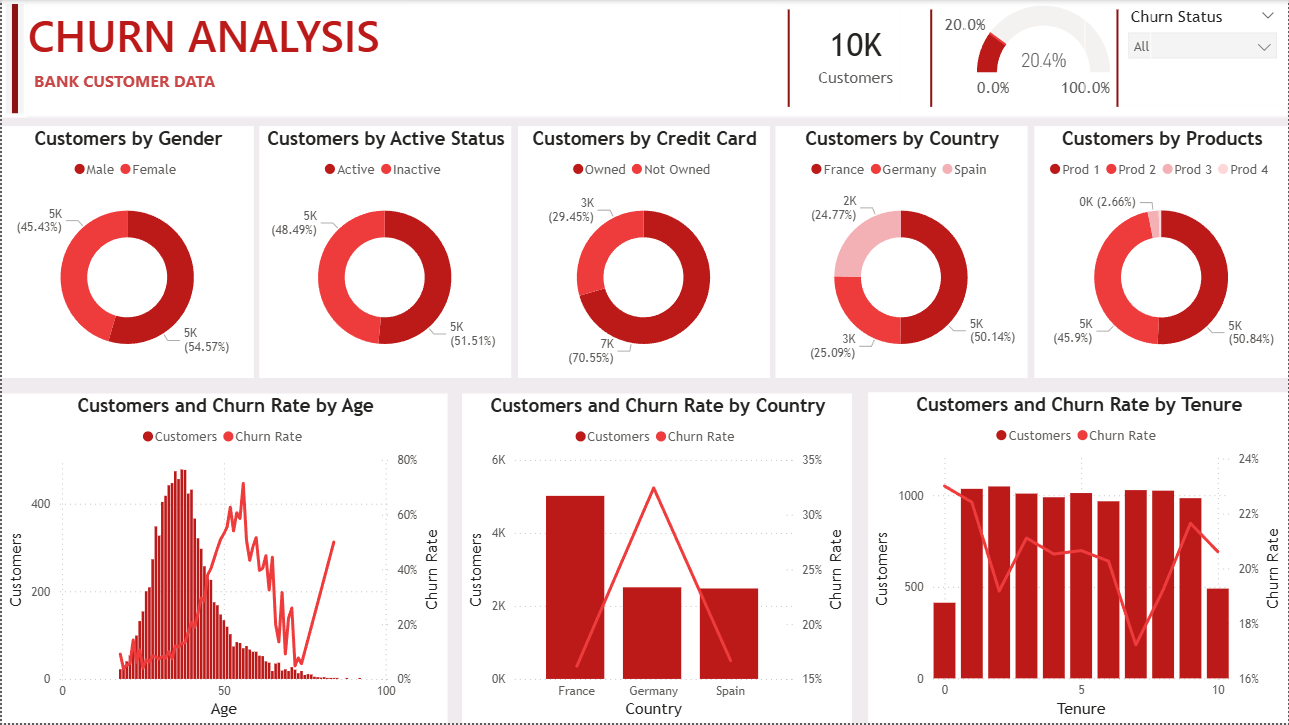

This screenshot's page, from the dashboard's own definition file:
{"tool":"powerbi","page":{"name":"Page 1","canvas":[1280,720],"ordinal":0},"visuals":[{"type":"shape","box":[0,0,1280,116.7],"z":0},{"type":"card","fields":{"Values":["Bank Customer Churn Prediction.Customer"]},"box":[775,0,150,106.7],"z":1000},{"type":"donutChart","fields":{"Category":["Bank Customer Churn Prediction.Gender"],"Y":["Bank Customer Churn Prediction.Customer"]},"box":[0,125.8,250,250],"z":2000},{"type":"donutChart","fields":{"Y":["Bank Customer Churn Prediction.Customer"],"Category":["Bank Customer Churn Prediction.Active Status"]},"box":[256.8,125.8,250,250],"z":3000},{"type":"donutChart","fields":{"Y":["Bank Customer Churn Prediction.Customer"],"Category":["Bank Customer Churn Prediction.Credit Card"]},"box":[513.6,125.8,250,250],"z":4000},{"type":"donutChart","fields":{"Y":["Bank Customer Churn Prediction.Customer"],"Category":["Bank Customer Churn Prediction.Country"]},"box":[770.4,125.8,250,250],"z":5000},{"type":"donutChart","fields":{"Y":["Bank Customer Churn Prediction.Customer"],"Category":["Bank Customer Churn Prediction.Products"]},"box":[1027.1,125.8,252.9,250],"z":6000},{"type":"lineClusteredColumnComboChart","fields":{"Category":["Bank Customer Churn Prediction.Age"],"Y":["Bank Customer Churn Prediction.Customer"],"Y2":["Bank Customer Churn Prediction.Churn Rate"]},"box":[0,391.7,443.3,328.3],"z":7000},{"type":"lineClusteredColumnComboChart","fields":{"Y":["Bank Customer Churn Prediction.Customer"],"Y2":["Bank Customer Churn Prediction.Churn Rate"],"Category":["Bank Customer Churn Prediction.Country"]},"box":[458.2,391.7,388.3,328.3],"z":8000},{"type":"lineClusteredColumnComboChart","fields":{"Y":["Bank Customer Churn Prediction.Customer"],"Y2":["Bank Customer Churn Prediction.Churn Rate"],"Category":["Bank Customer Churn Prediction.Tenure"]},"box":[861.5,391,418.5,329],"z":9000},{"type":"slicer","fields":{"Values":["Bank Customer Churn Prediction.Churn Status"]},"box":[1110,1.7,170,103.3],"z":10000},{"type":"gauge","fields":{"Y":["Bank Customer Churn Prediction.Churn Rate"],"MinValue":["Min(Bank Customer Churn Prediction.Min Churn Rate)"],"MaxValue":["Max(Bank Customer Churn Prediction.Max Churn Rate)"],"TargetValue":["Max(Bank Customer Churn Prediction.Target Churn Rate)"]},"box":[925,0,185,106.7],"z":11000},{"type":"textbox","box":[0,0,402.1,89.2],"z":12000},{"type":"textbox","box":[26.1,63.1,299.1,42.5],"z":13000},{"type":"shape","box":[750,9,66,99],"z":14000},{"type":"shape","box":[892,9,66,99],"z":15000},{"type":"shape","box":[1077,9,66,99],"z":16000},{"type":"shape","box":[0,0,25.8,116.7],"z":16001}]}

Visuals, with their boxes in screenshot pixels (x1, y1, x2, y2), scaled from the page's 1280x720 canvas onto the 1289x725 screenshot:
shape: Rect(0, 0, 1288, 118)
card - Bank Customer Churn Prediction.Customer: Rect(780, 0, 932, 107)
donutChart - Bank Customer Churn Prediction.Gender x Bank Customer Churn Prediction.Customer: Rect(0, 127, 252, 378)
donutChart - Bank Customer Churn Prediction.Customer x Bank Customer Churn Prediction.Active Status: Rect(259, 127, 510, 378)
donutChart - Bank Customer Churn Prediction.Customer x Bank Customer Churn Prediction.Credit Card: Rect(517, 127, 769, 378)
donutChart - Bank Customer Churn Prediction.Customer x Bank Customer Churn Prediction.Country: Rect(776, 127, 1028, 378)
donutChart - Bank Customer Churn Prediction.Customer x Bank Customer Churn Prediction.Products: Rect(1034, 127, 1288, 378)
lineClusteredColumnComboChart - Bank Customer Churn Prediction.Age x Bank Customer Churn Prediction.Customer: Rect(0, 394, 446, 724)
lineClusteredColumnComboChart - Bank Customer Churn Prediction.Customer x Bank Customer Churn Prediction.Churn Rate: Rect(461, 394, 852, 724)
lineClusteredColumnComboChart - Bank Customer Churn Prediction.Customer x Bank Customer Churn Prediction.Churn Rate: Rect(868, 394, 1288, 724)
slicer - Bank Customer Churn Prediction.Churn Status: Rect(1118, 2, 1288, 106)
gauge - Bank Customer Churn Prediction.Churn Rate x Min(Bank Customer Churn Prediction.Min Churn Rate): Rect(932, 0, 1118, 107)
textbox: Rect(0, 0, 405, 90)
textbox: Rect(26, 64, 327, 106)
shape: Rect(755, 9, 822, 109)
shape: Rect(898, 9, 965, 109)
shape: Rect(1085, 9, 1151, 109)
shape: Rect(0, 0, 26, 118)
